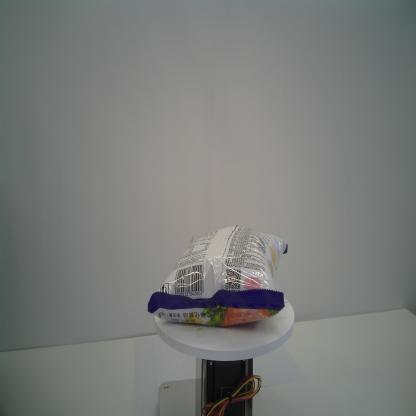Puffed Food: (147, 224, 289, 328)
